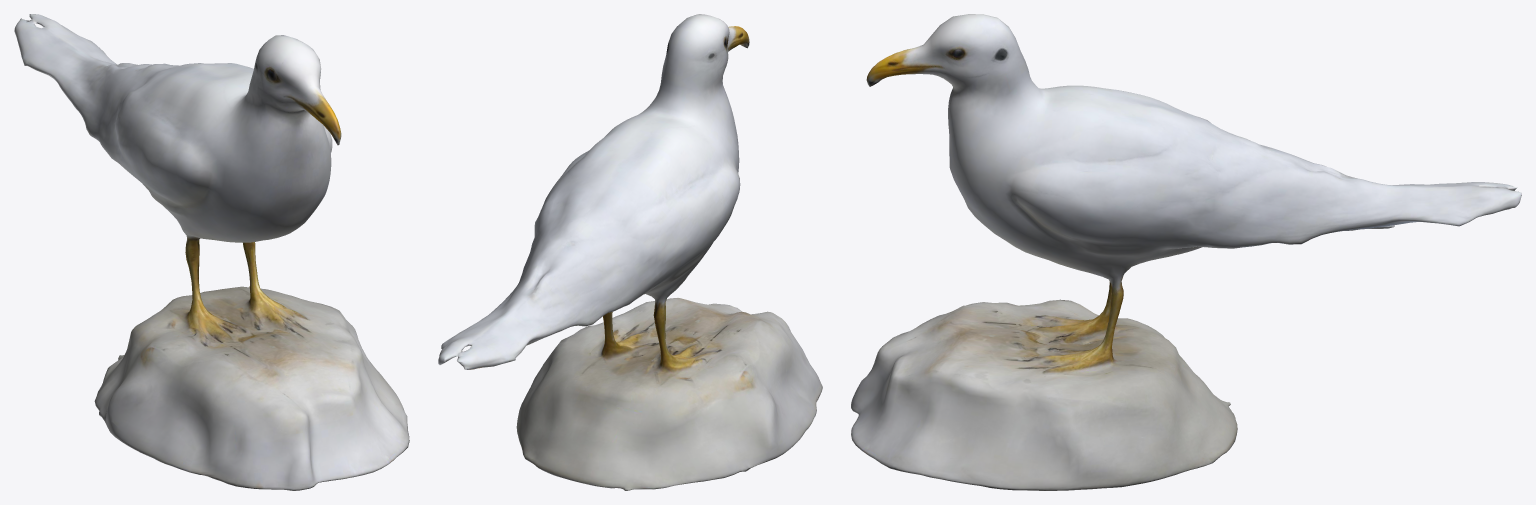
The model's file is chaika.glb.
The picture shows the model from 3 angles, left to right: view 1: azimuth 30°, elevation 25°; view 2: azimuth 150°, elevation 25°; view 3: azimuth 270°, elevation 25°; orthographic projection. The views are drawn at different scales.
Parts seen in each view (by area): view 1: Mesh0; view 2: Mesh0; view 3: Mesh0.
Part boxes in pixels (x1,y1,x2,y2): Mesh0: (14, 14, 409, 490); Mesh0: (438, 14, 822, 490); Mesh0: (851, 14, 1521, 490).
Bounding box in the file's own units: 0.9175 × 1.35 × 1.99.
1 material, 1 textured.
